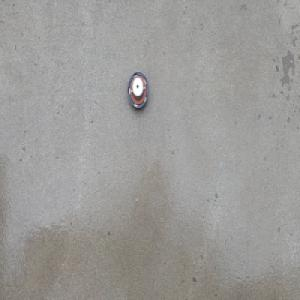FuelCap: (127, 70, 149, 111)
